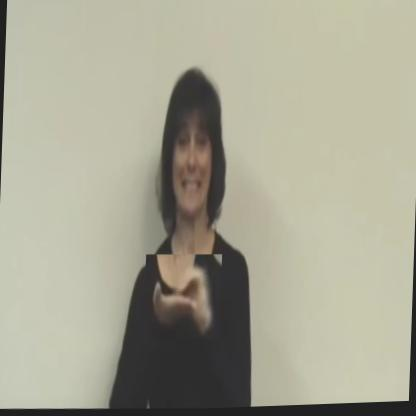ExcuseMe: (143, 254, 222, 343)
